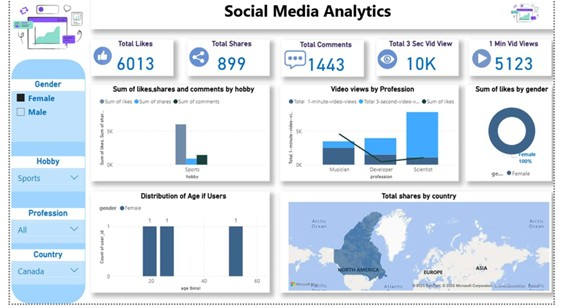

The page's visual inventory and layout, read from the dashboard file:
{"tool":"powerbi","page":{"name":"Dashboard","canvas":[1280,720],"ordinal":0},"visuals":[{"type":"shape","box":[3.2,145.7,174.9,574.8],"z":0},{"type":"textbox","box":[191,0,1089.4,74.5],"z":1000},{"type":"image","box":[1173.6,0,77.7,74.5],"z":2000},{"type":"card","title":"Total Likes","fields":{"Values":["Sum(social_media_analysis.likes)"]},"box":[191,98.7,194.2,85.8],"z":3000},{"type":"image","box":[184.5,106.8,68,63.1],"z":4000},{"type":"card","title":"Total Shares","fields":{"Values":["Sum(social_media_analysis.shares)"]},"box":[418.2,98.7,194.2,85.8],"z":5000},{"type":"image","box":[406.9,108.5,77.7,61.5],"z":6000},{"type":"card","title":"Total Comments","fields":{"Values":["Sum(social_media_analysis.comments)"]},"box":[639.4,100.4,194.2,85.8],"z":7000},{"type":"image","box":[632.9,114.9,74.5,61.5],"z":8000},{"type":"card","title":"Total 3 Sec Vid View","fields":{"Values":["Sum(social_media_analysis.3-second-video-views)"]},"box":[862.8,98.7,194.2,85.8],"z":9000},{"type":"card","title":"1 Min Vid Views","fields":{"Values":["Sum(social_media_analysis.1-minute-video-views)"]},"box":[1080.9,98.1,194.2,85.8],"z":10000},{"type":"image","box":[851.4,113.3,69.6,61.5],"z":11000},{"type":"image","box":[1078.1,103.6,64.7,79.3],"z":12000},{"type":"clusteredColumnChart","title":"Sum of likes,shares and comments by hobby","fields":{"Category":["social_media_analysis.hobby"],"Y":["Sum(social_media_analysis.likes)","Sum(social_media_analysis.shares)","Sum(social_media_analysis.comments)"]},"box":[191,205.6,420.9,226.6],"z":13000},{"type":"lineStackedColumnComboChart","title":"Video views by Profession","fields":{"Category":["social_media_analysis.profession"],"Y":["Sum(social_media_analysis.1-minute-video-views)","Sum(social_media_analysis.3-second-video-views)"],"Y2":["Sum(social_media_analysis.likes)"]},"box":[636.2,205.6,420.9,226.6],"z":14000},{"type":"donutChart","fields":{"Category":["social_media_analysis.gender"],"Y":["Sum(social_media_analysis.likes)"]},"box":[1073.2,205.6,202.3,226.6],"z":15000},{"type":"columnChart","title":"Distribution of Age if Users","fields":{"Category":["social_media_analysis.age (bins)"],"Y":["CountNonNull(social_media_analysis.user_id)"],"Series":["social_media_analysis.gender"]},"box":[191,456.5,420.9,238],"z":16000},{"type":"slicer","title":"Gender","fields":{"Values":["social_media_analysis.gender"]},"box":[3.2,192.6,173.2,147.3],"z":17000},{"type":"slicer","title":"Hobby","fields":{"Values":["social_media_analysis.hobby"]},"box":[3.2,373.9,173.2,82.6],"z":18000},{"type":"slicer","title":"Profession","fields":{"Values":["social_media_analysis.profession"]},"box":[3.2,495.3,173.2,82.6],"z":19000},{"type":"filledMap","title":"Total shares by country","fields":{"Category":["social_media_analysis.country"]},"box":[636.2,456.5,639.4,238],"z":20000},{"type":"slicer","title":"Country","fields":{"Values":["social_media_analysis.country"]},"box":[3.2,592.5,173.2,82.6],"z":21000},{"type":"image","box":[0,0,178.1,142.5],"z":22000}]}

Visuals, with their boxes on the page's 1280x720 design canvas (x1, y1, x2, y2). These are canvas units, not pixel positions in the 566x308 screenshot, which may show the page scaled, cropped or inside an application window:
shape: (3, 146, 178, 720)
textbox: (191, 0, 1280, 74)
image: (1174, 0, 1251, 74)
"Total Likes" card: (191, 99, 385, 184)
image: (184, 107, 252, 170)
"Total Shares" card: (418, 99, 612, 184)
image: (407, 108, 485, 170)
"Total Comments" card: (639, 100, 834, 186)
image: (633, 115, 707, 176)
"Total 3 Sec Vid View" card: (863, 99, 1057, 184)
"1 Min Vid Views" card: (1081, 98, 1275, 184)
image: (851, 113, 921, 175)
image: (1078, 104, 1143, 183)
"Sum of likes,shares and comments by hobby" clusteredColumnChart: (191, 206, 612, 432)
"Video views by Profession" lineStackedColumnComboChart: (636, 206, 1057, 432)
donutChart - social_media_analysis.gender x Sum(social_media_analysis.likes): (1073, 206, 1276, 432)
"Distribution of Age if Users" columnChart: (191, 456, 612, 694)
"Gender" slicer: (3, 193, 176, 340)
"Hobby" slicer: (3, 374, 176, 456)
"Profession" slicer: (3, 495, 176, 578)
"Total shares by country" filledMap: (636, 456, 1276, 694)
"Country" slicer: (3, 592, 176, 675)
image: (0, 0, 178, 142)
